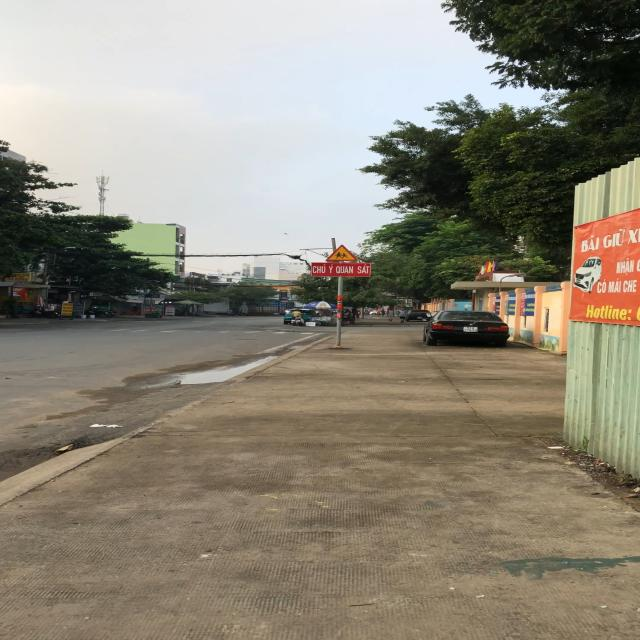Bien bao tre em: (324, 243, 360, 263)
